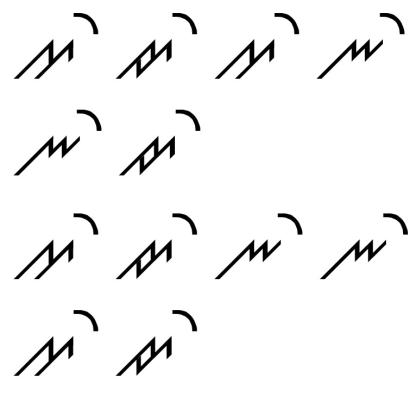jay: (117, 298, 203, 382), (113, 103, 204, 180), (113, 206, 200, 285), (113, 9, 198, 82)
nyay: (214, 208, 310, 286), (319, 204, 409, 284), (13, 104, 104, 182), (318, 6, 408, 81)
say: (11, 3, 101, 86), (14, 301, 100, 383), (12, 205, 100, 282), (214, 9, 300, 80)
